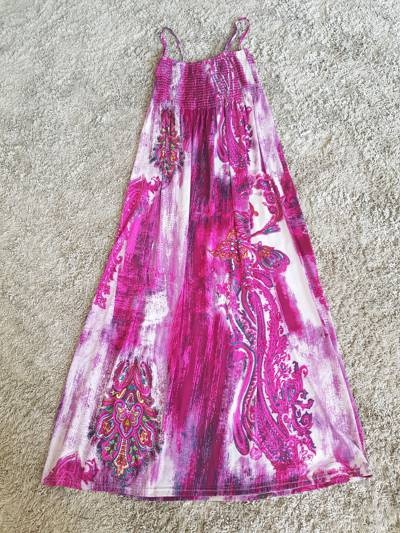Dress: (32, 21, 379, 503)
